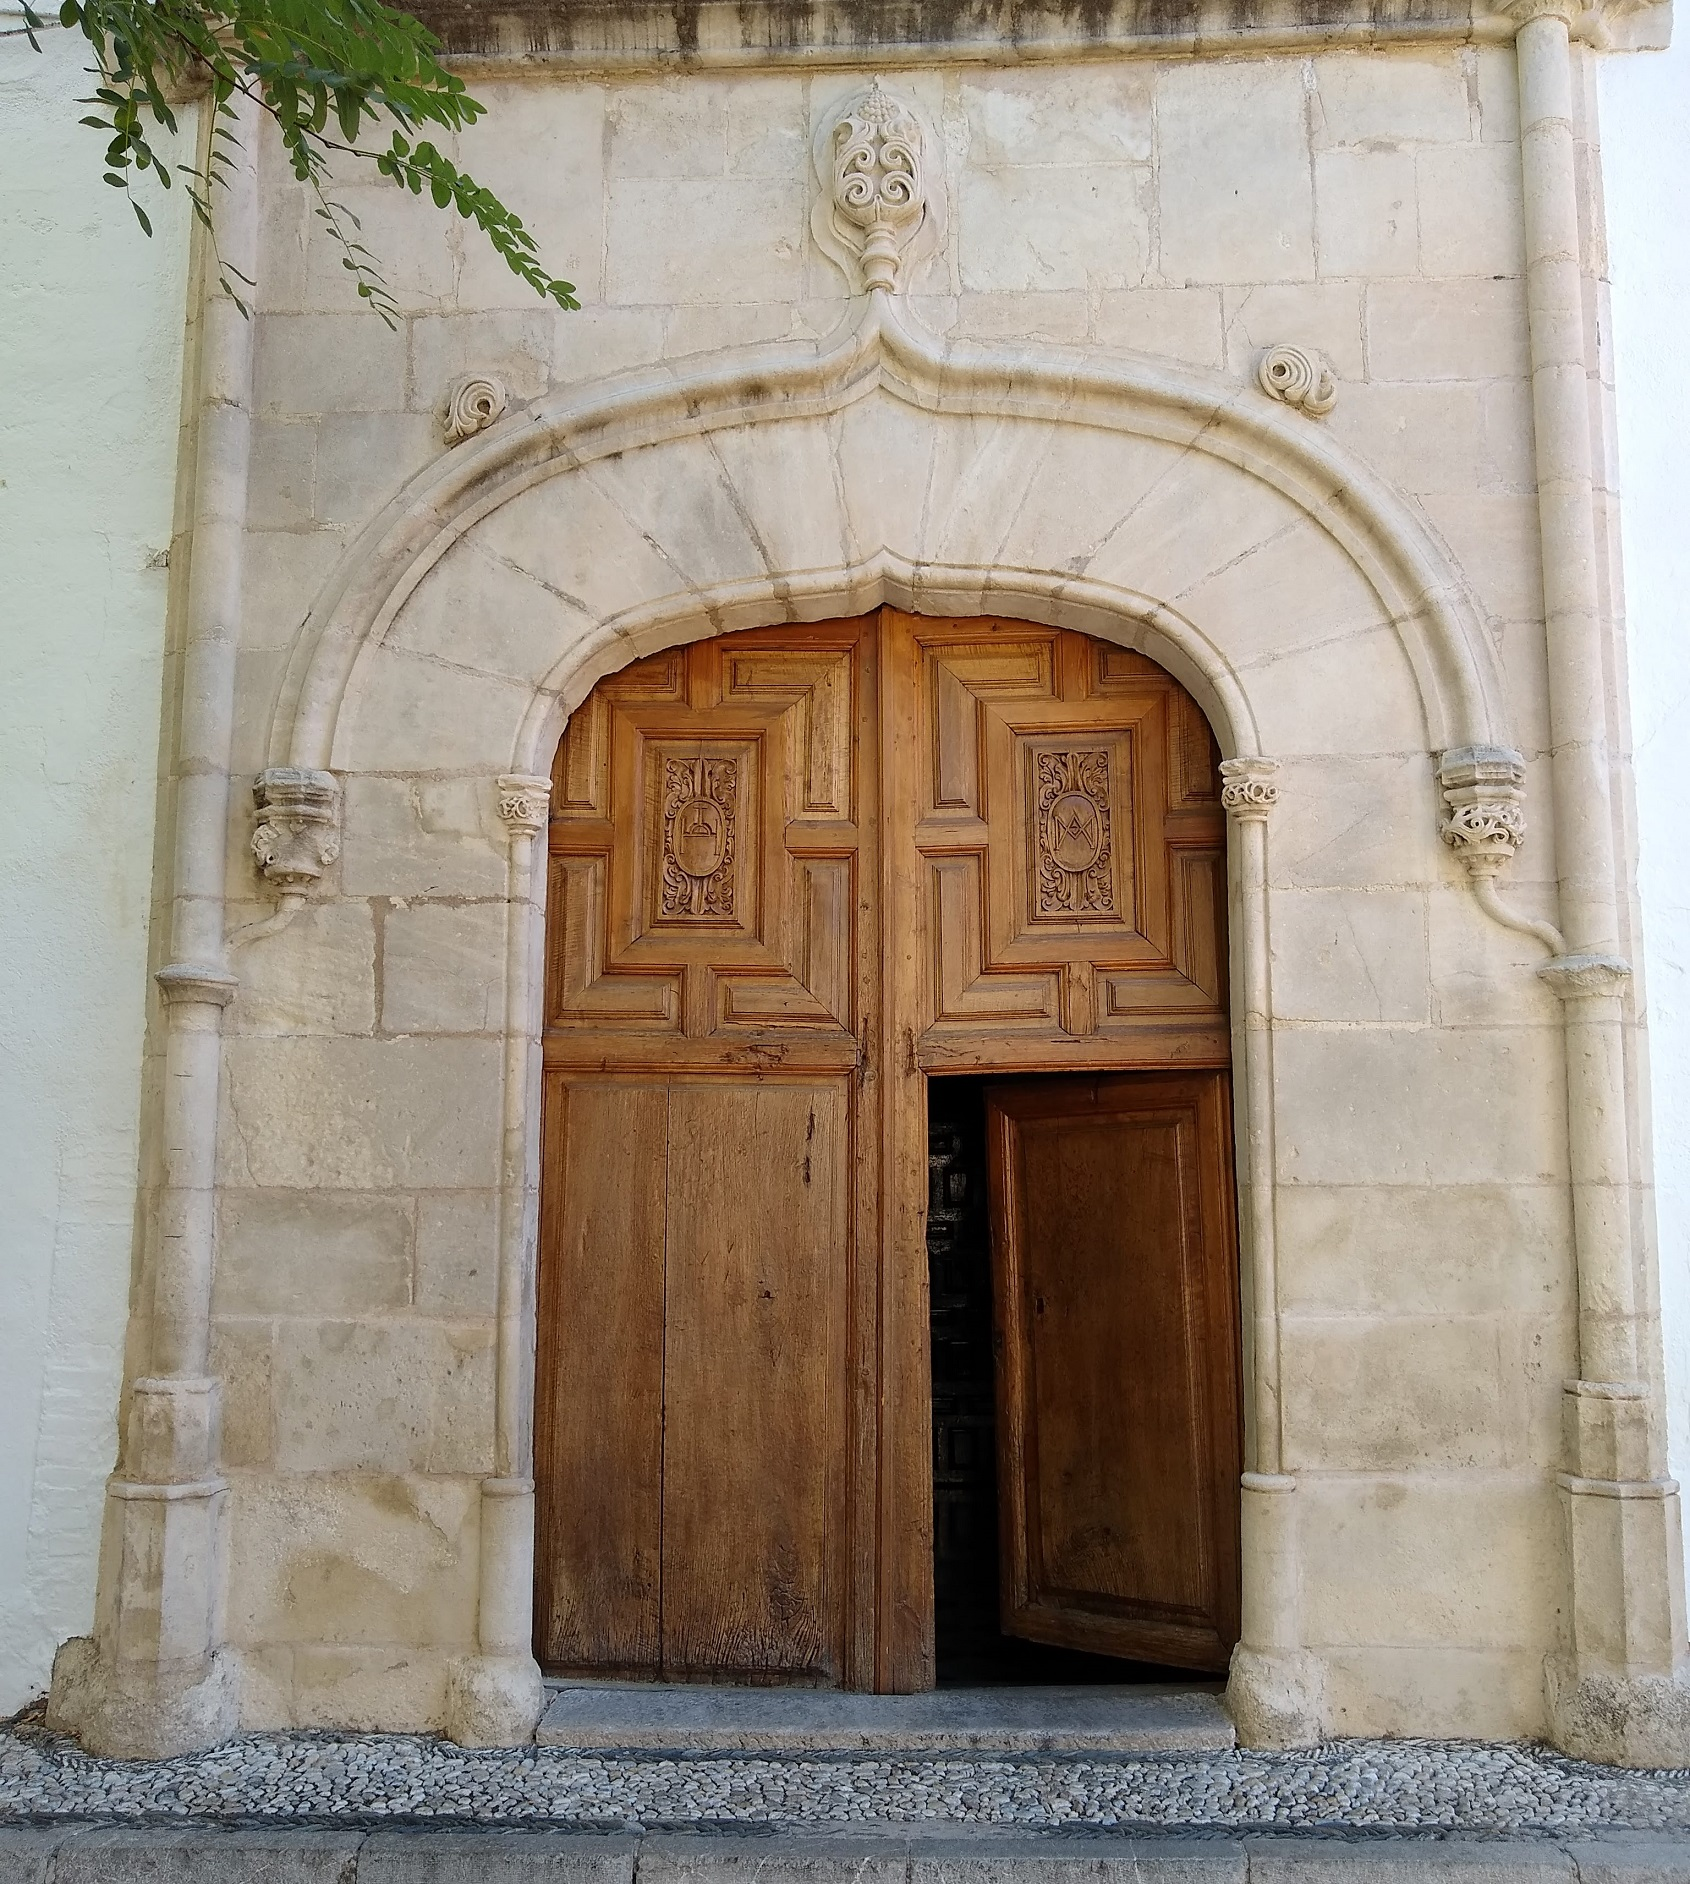arco-conopial: (383, 289, 1429, 514), (546, 535, 1192, 672)
